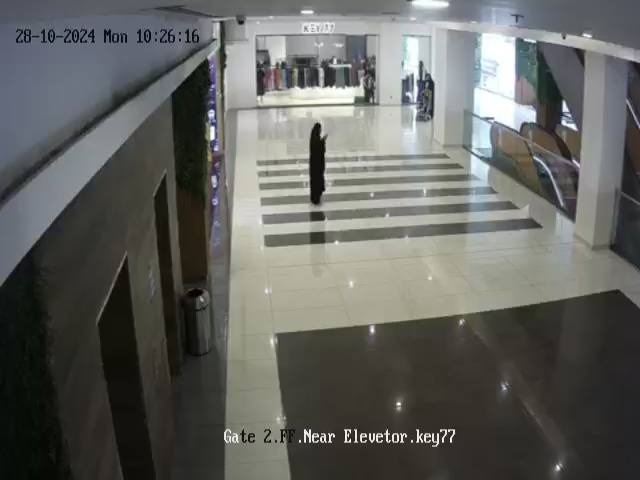female: (299, 119, 338, 210)
